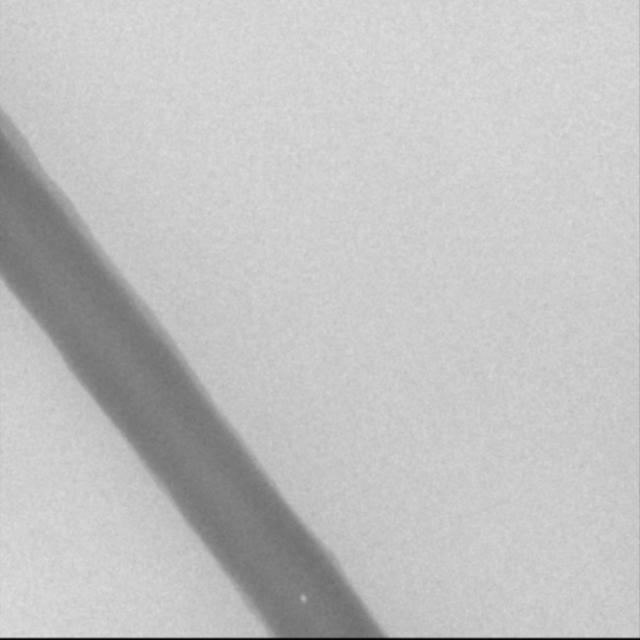air hole: (299, 593, 308, 604)
